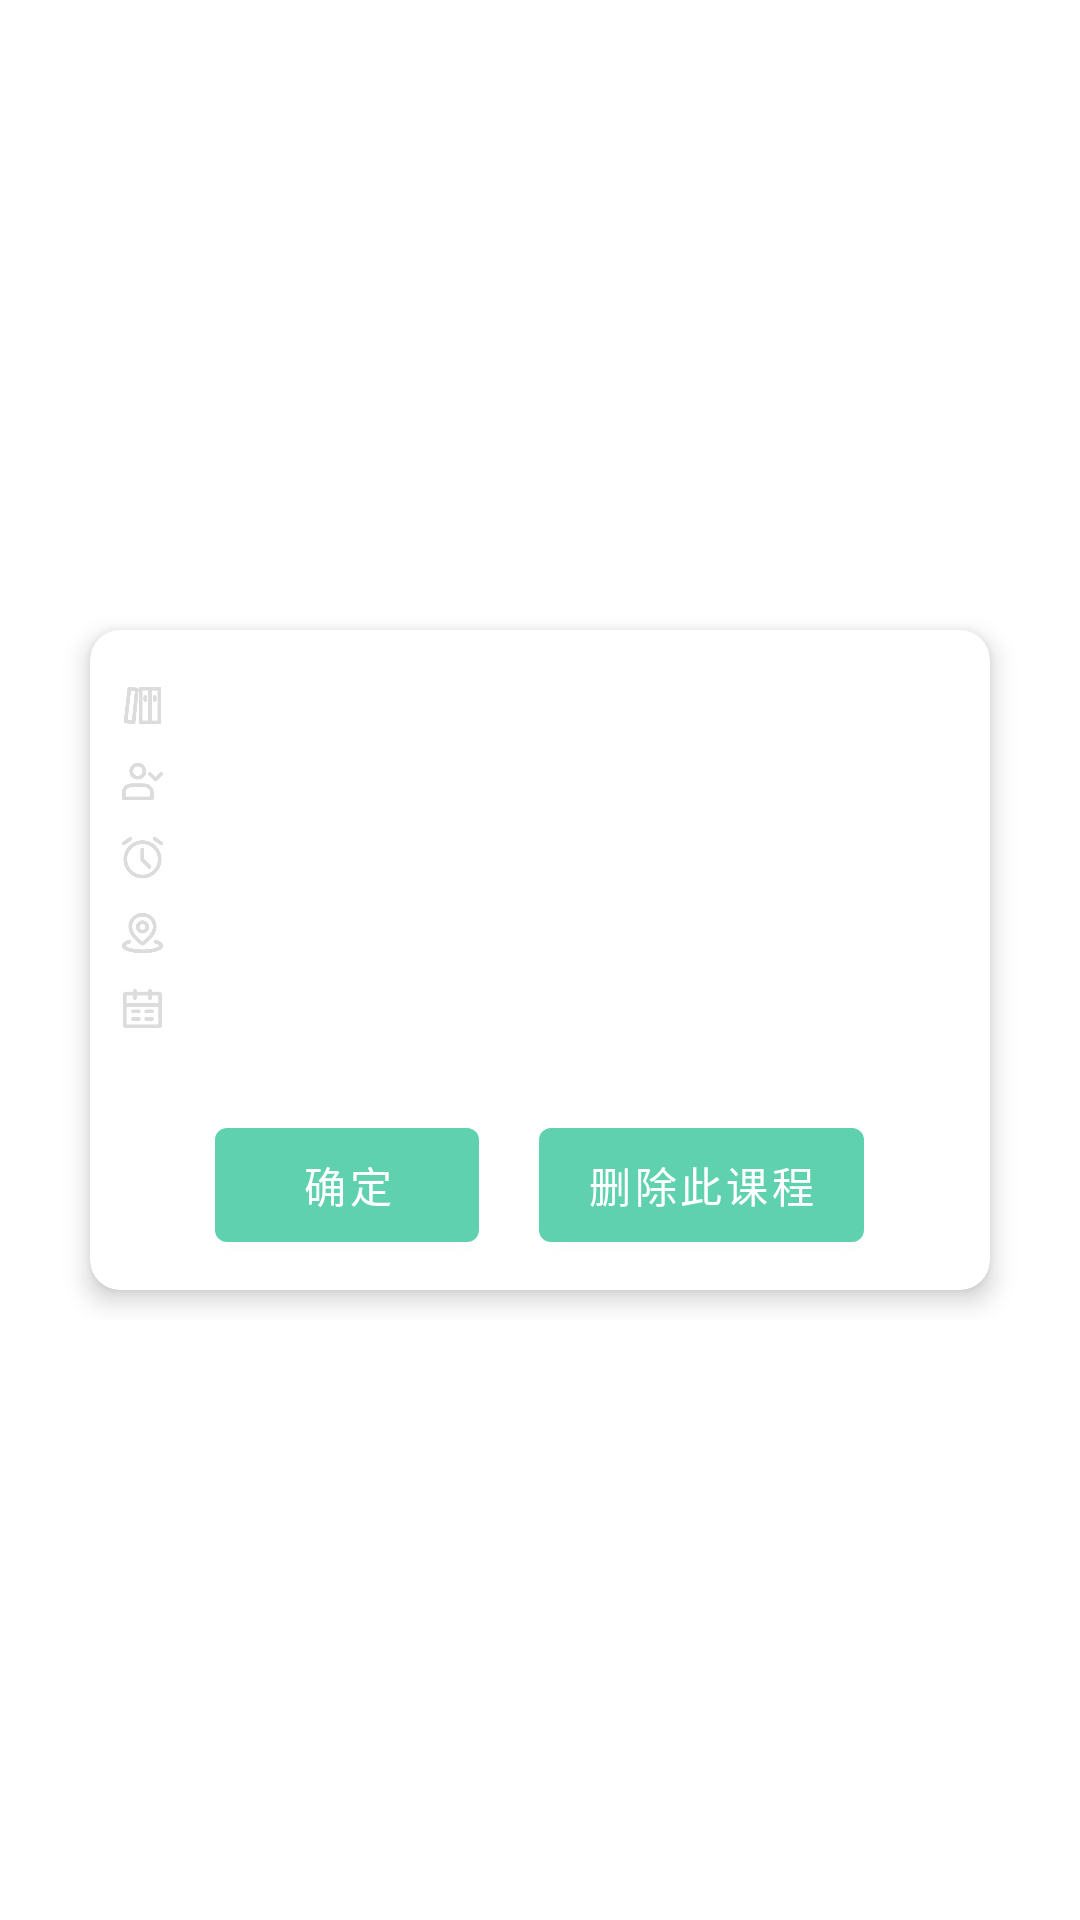

Where icons sit on this 1080 x 1920 app screen, as (x1, y1, x2, y2):
bai activity local: (122, 913, 163, 953)
bai activity time: (122, 837, 163, 878)
class teacher: (122, 763, 163, 800)
class week: (123, 989, 162, 1028)
